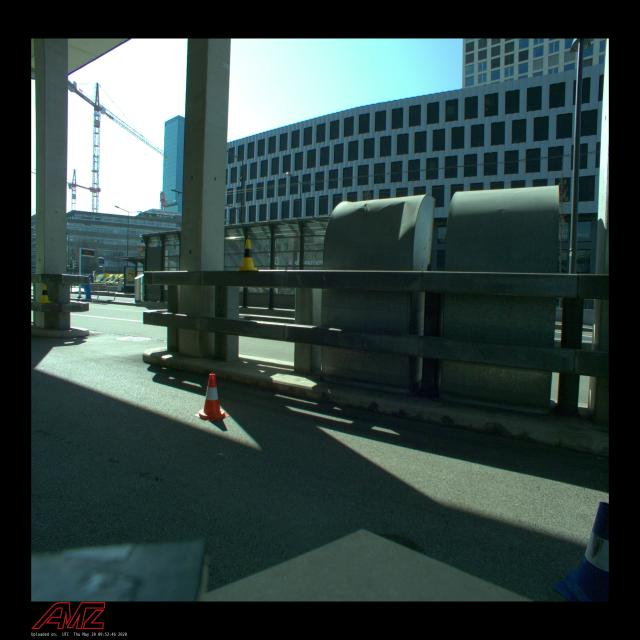blue_cone: (554, 502, 609, 602)
orange_cone: (194, 374, 230, 420)
yellow_cone: (238, 239, 258, 271), (38, 284, 50, 304)
